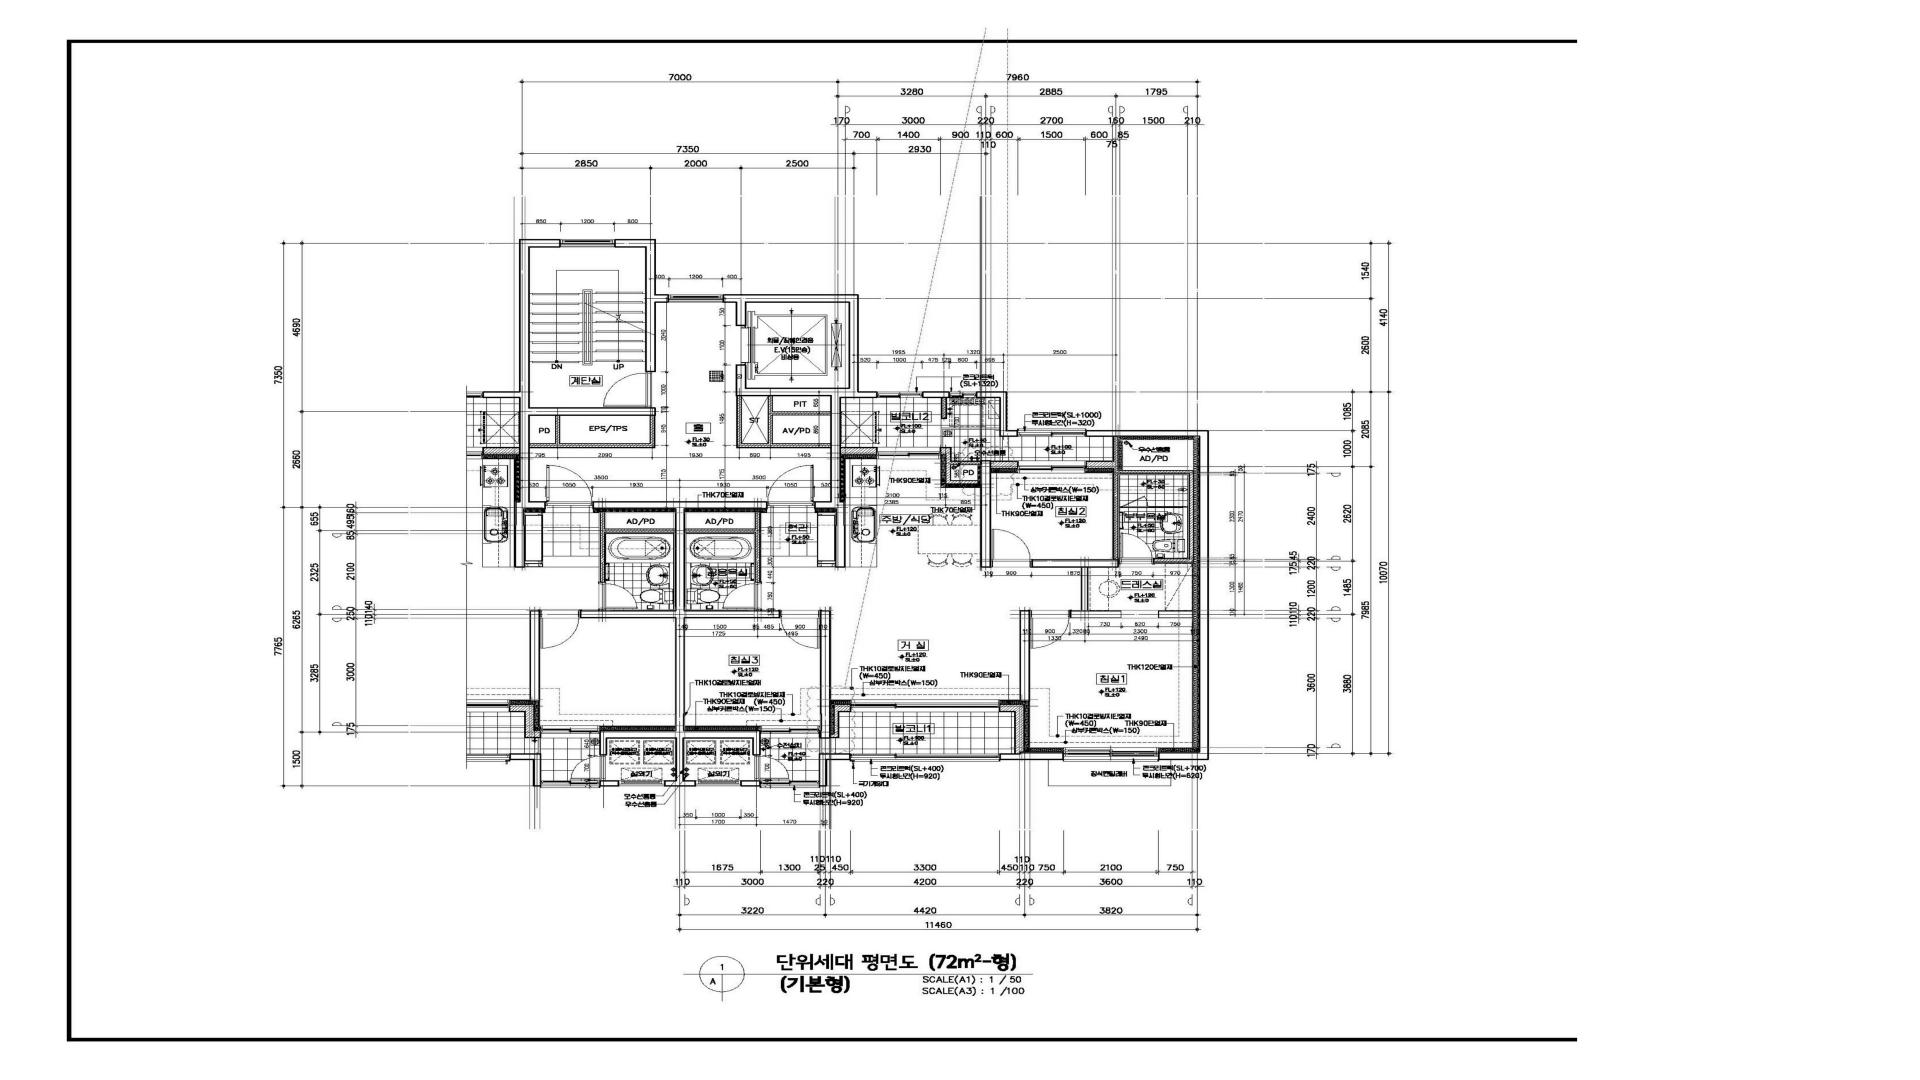door: (767, 464, 815, 506), (603, 372, 651, 407), (992, 529, 1031, 568), (1030, 611, 1071, 649), (781, 611, 820, 649), (723, 583, 761, 611), (1120, 533, 1153, 564), (754, 756, 790, 781)
wall: (592, 501, 781, 786), (723, 294, 877, 568), (1087, 430, 1209, 761), (520, 239, 657, 509), (1031, 436, 1193, 618), (940, 447, 1018, 568), (615, 239, 669, 372), (684, 512, 761, 583), (736, 396, 831, 448), (530, 415, 655, 448), (820, 611, 851, 738), (976, 392, 1017, 436), (1000, 704, 1025, 753), (819, 753, 849, 786), (1019, 611, 1030, 702), (1001, 752, 1063, 760), (1158, 611, 1193, 618), (841, 447, 877, 455), (922, 392, 949, 398), (940, 398, 947, 419), (740, 781, 760, 787)
window: (851, 699, 1000, 712), (849, 753, 1001, 762), (1063, 748, 1159, 762), (1018, 460, 1085, 473), (761, 725, 820, 738), (877, 447, 940, 459), (1017, 429, 1087, 436), (669, 294, 723, 303), (560, 239, 615, 248), (760, 781, 819, 787), (877, 392, 922, 398), (696, 781, 740, 787), (949, 392, 976, 398)
